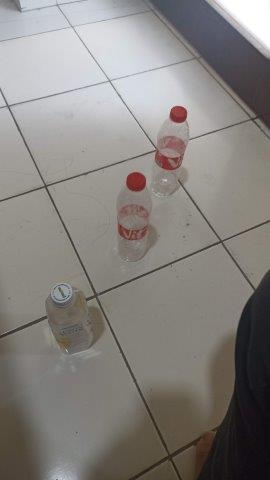botolplastik: (152, 106, 191, 200), (46, 283, 95, 354), (118, 172, 150, 263)
